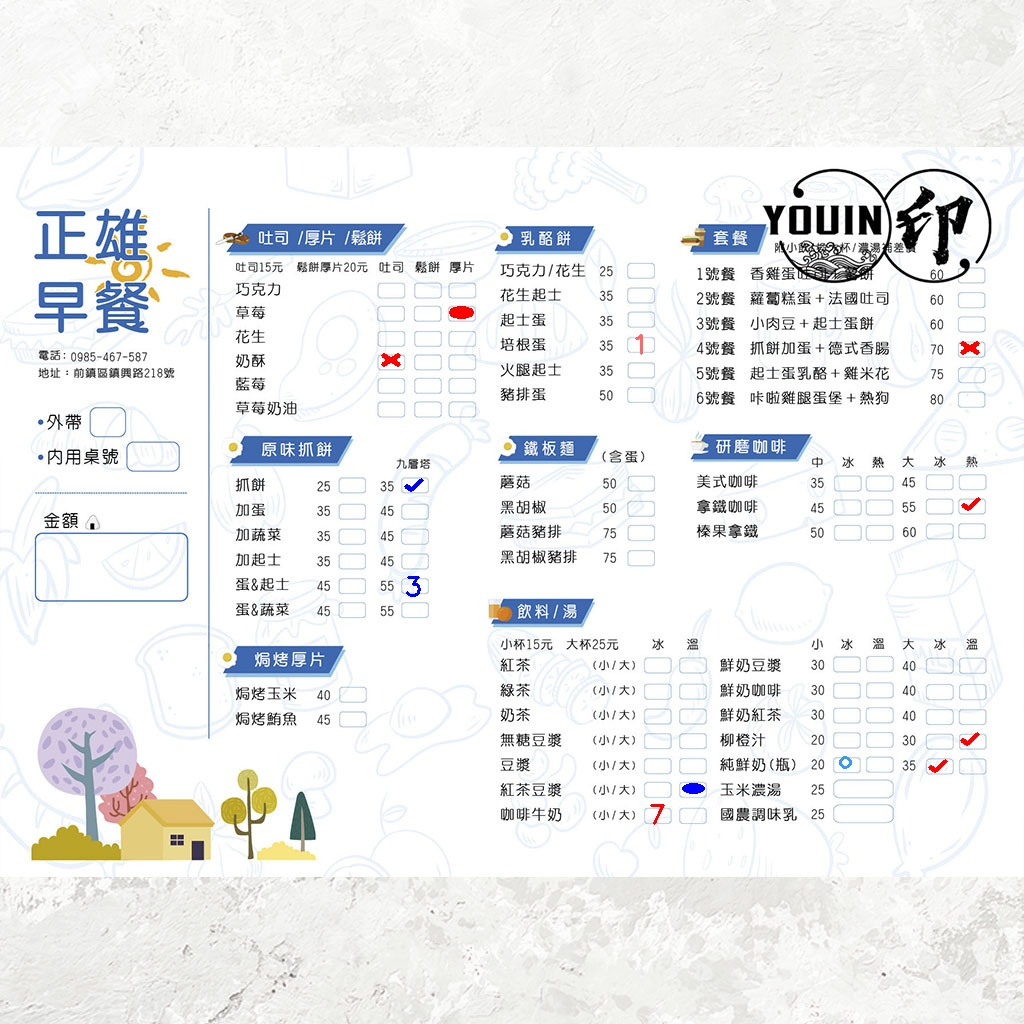marked_hollow: (834, 707, 860, 721)
marked_number_1: (833, 476, 859, 490)
marked_number_4: (958, 497, 984, 511), (377, 282, 403, 296), (960, 684, 986, 698)
marked_number_5: (834, 657, 860, 671)
marked_number_8: (378, 353, 404, 367)
marked_number_9: (338, 711, 364, 725)
marked_tick: (925, 474, 951, 488), (340, 686, 366, 700), (400, 579, 426, 593), (377, 401, 403, 415), (448, 305, 474, 319)
marked_x: (926, 657, 952, 671)
